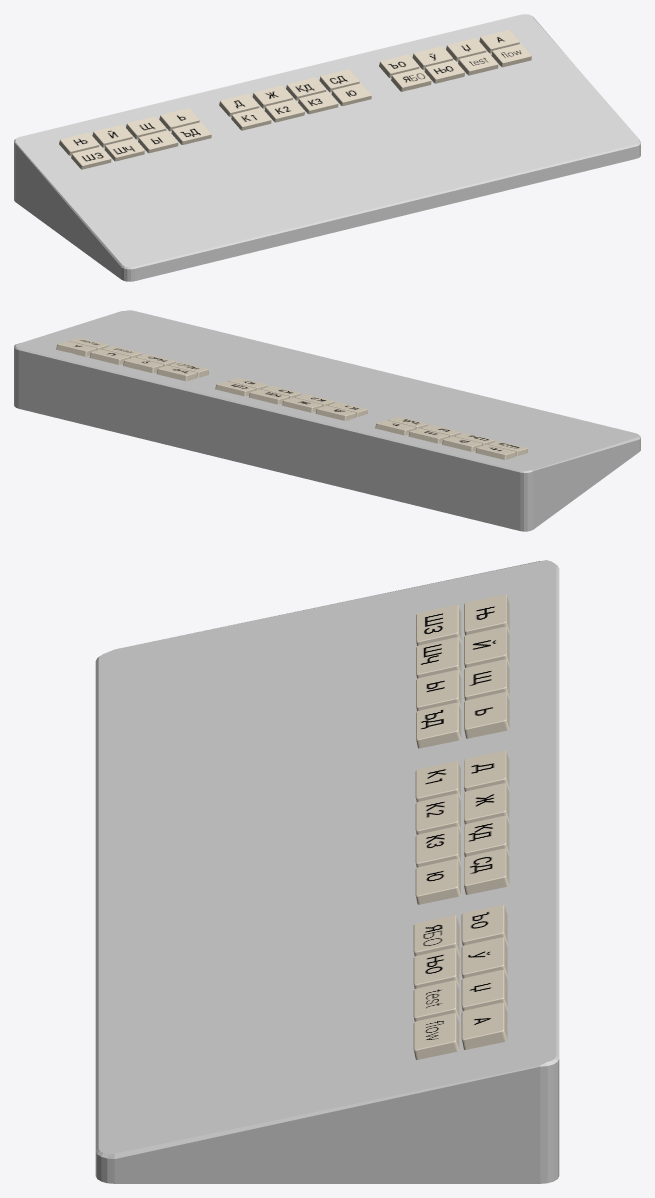
File: colored_buttons_panel.fbx
3 views of the same model, one above another, from view 1: azimuth 30°, elevation 25°; view 2: azimuth 150°, elevation 25°; view 3: azimuth 270°, elevation 25° (orthographic). The views are drawn at different scales.
Visible parts, largest first — view 1: button_panel, handle.004; view 2: button_panel, handle.004; view 3: button_panel, handle.004.
Part boxes in pixels (left/top/right/bottom): button_panel: left=14, top=14, right=640, bottom=281; handle.004: left=59, top=30, right=531, bottom=169; button_panel: left=14, top=310, right=640, bottom=531; handle.004: left=56, top=337, right=527, bottom=459; button_panel: left=95, top=560, right=559, bottom=1183; handle.004: left=413, top=594, right=509, bottom=1059.
Bounding box in the file's own units: 42.32 × 4.73 × 16.39.
